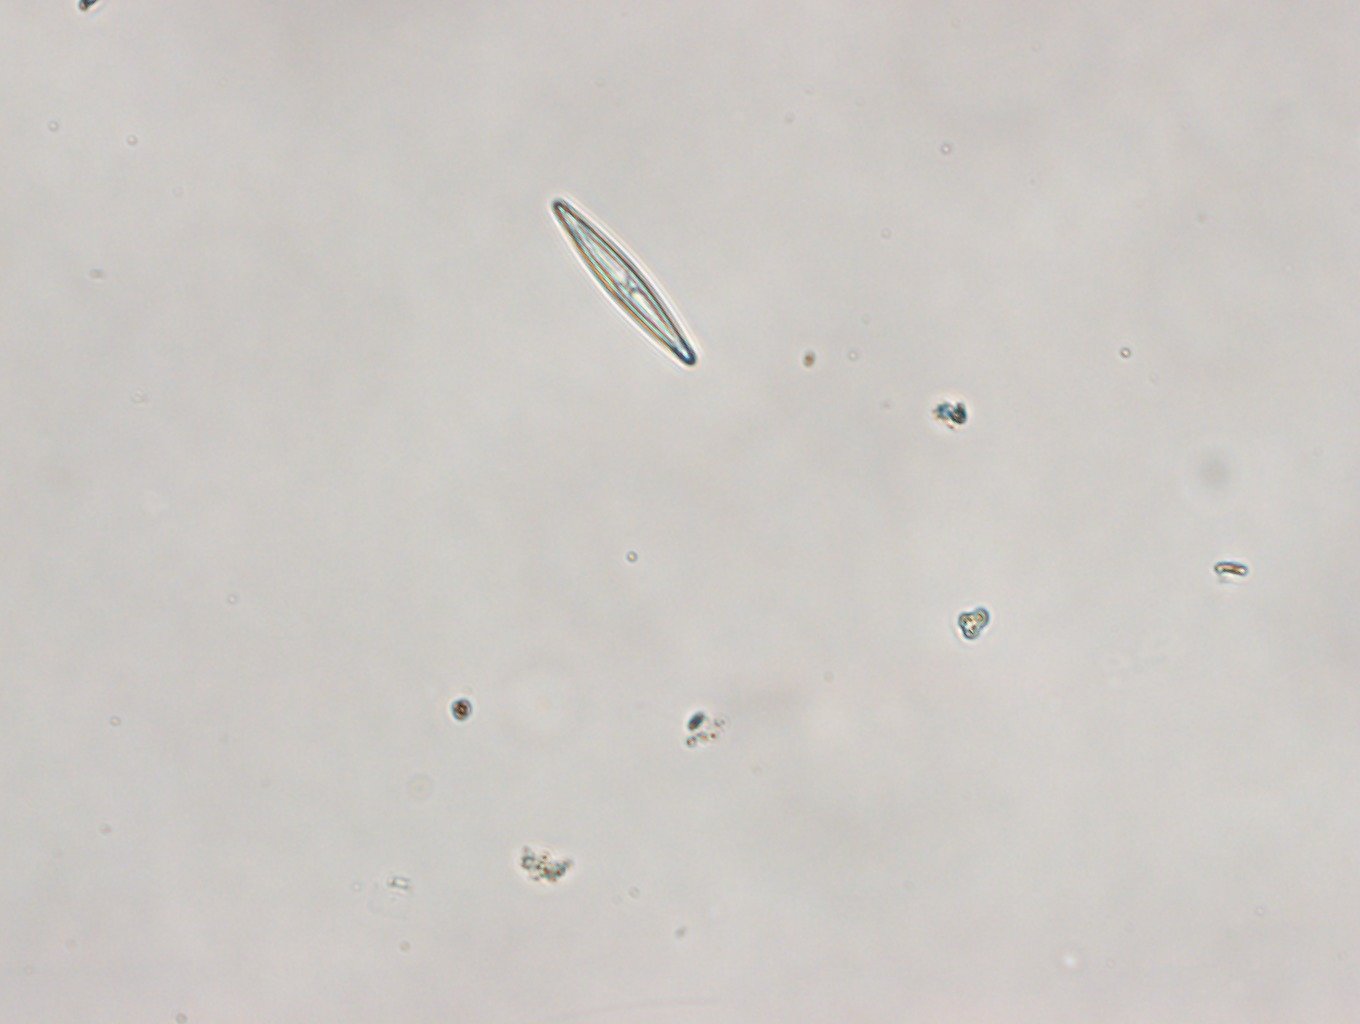navicula: (549, 194, 700, 370)
